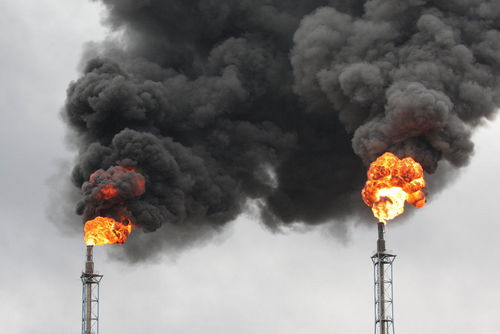dust: (313, 77, 474, 235), (64, 100, 202, 257)
